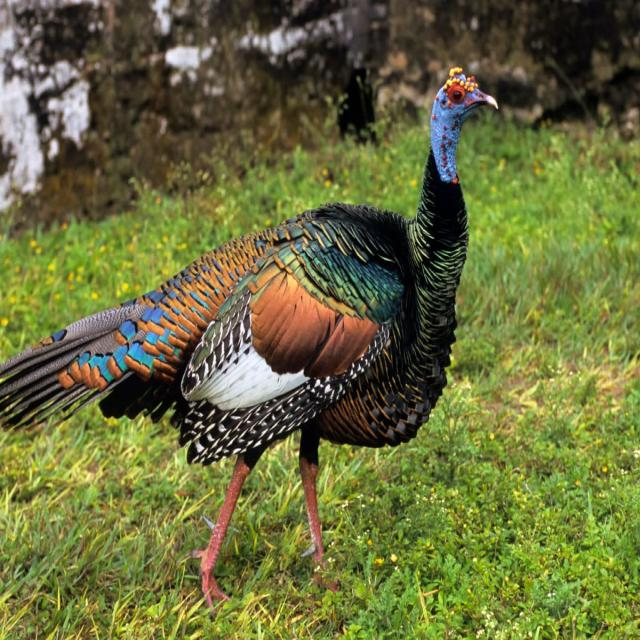Turkey: (0, 42, 530, 602)
